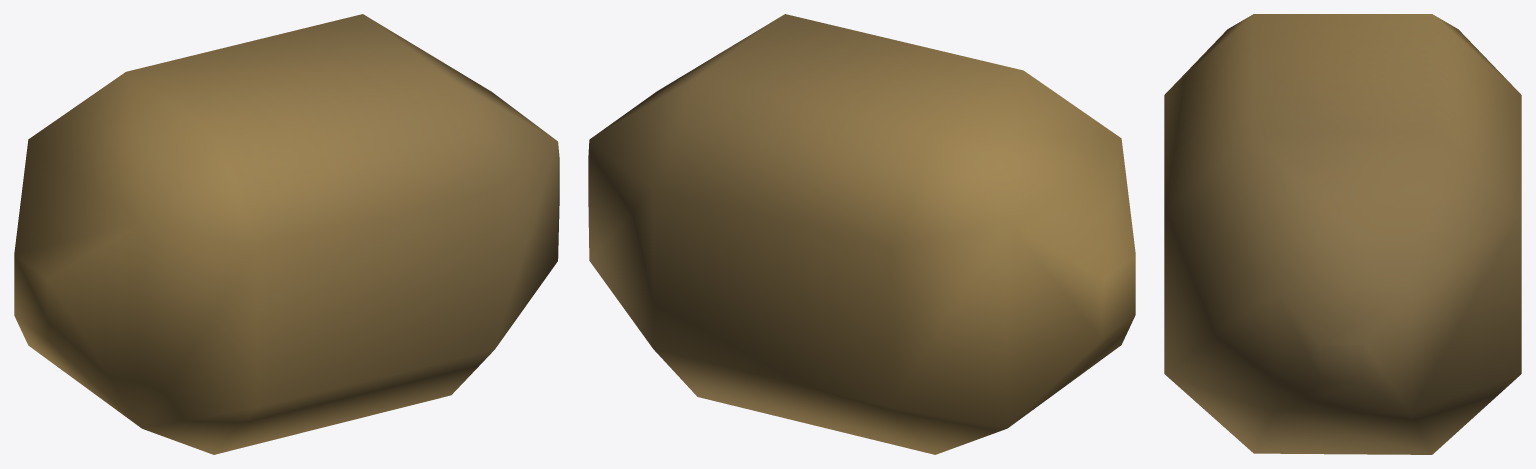
Rendered from potato.fbx.
3 renders of one model, left to right at view 1: azimuth 30°, elevation 25°; view 2: azimuth 150°, elevation 25°; view 3: azimuth 270°, elevation 25°, orthographic.
Parts seen in each view (by area): view 1: potato; view 2: potato; view 3: potato.
Part boxes in pixels (x1,y1,x2,y2): potato: (14,14,559,454); potato: (588,14,1135,454); potato: (1164,14,1521,454).
Size of the model in its own units: 26.23 by 15.42 by 15.42.
